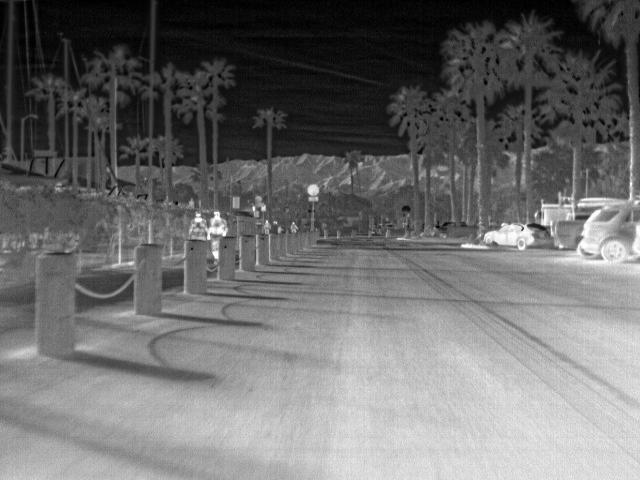car: (579, 200, 640, 264), (483, 220, 554, 250), (552, 211, 580, 251)
person: (209, 209, 230, 236), (191, 208, 208, 239), (261, 220, 274, 236), (288, 220, 300, 234)
